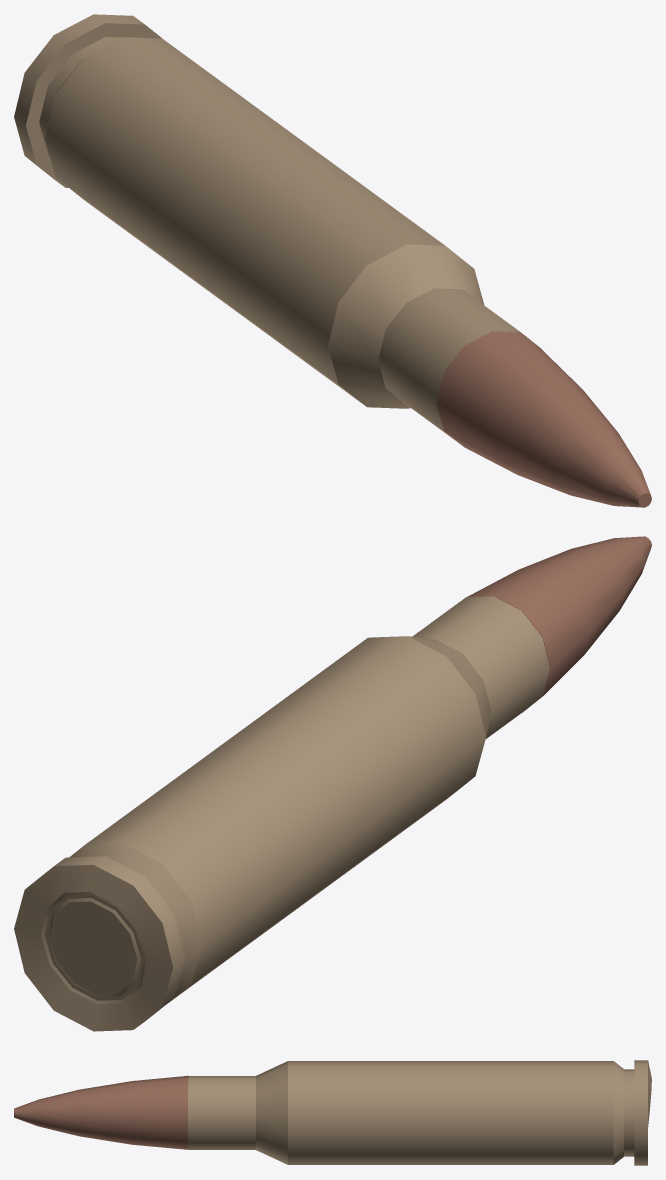
The model's file is ScarBullet.fbx.
3 renders of one model, top to bottom at view 1: azimuth 30°, elevation 25°; view 2: azimuth 150°, elevation 25°; view 3: azimuth 270°, elevation 25°, orthographic. The views are drawn at different scales.
Parts seen in each view (by area): view 1: polySurface1850, polySurface1851; view 2: polySurface1850, polySurface1851; view 3: polySurface1850, polySurface1851.
Boxes of the visible parts, <box> form: polySurface1850: <box>14,14,541,443</box>; polySurface1851: <box>436,331,651,507</box>; polySurface1850: <box>14,596,549,1031</box>; polySurface1851: <box>467,536,651,709</box>; polySurface1850: <box>188,1060,651,1165</box>; polySurface1851: <box>14,1075,188,1149</box>.
Size of the model in its own units: 0.7219 by 0.7219 by 4.36.
